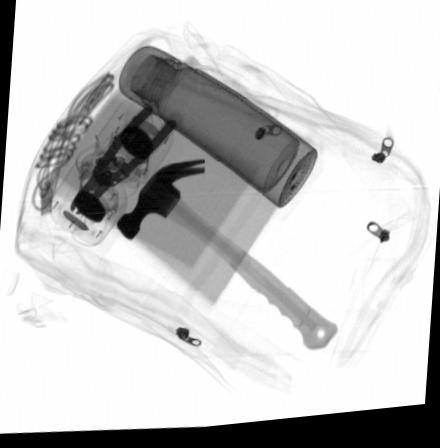Hammer: (115, 164, 338, 354)
Pliers: (70, 107, 176, 216)
